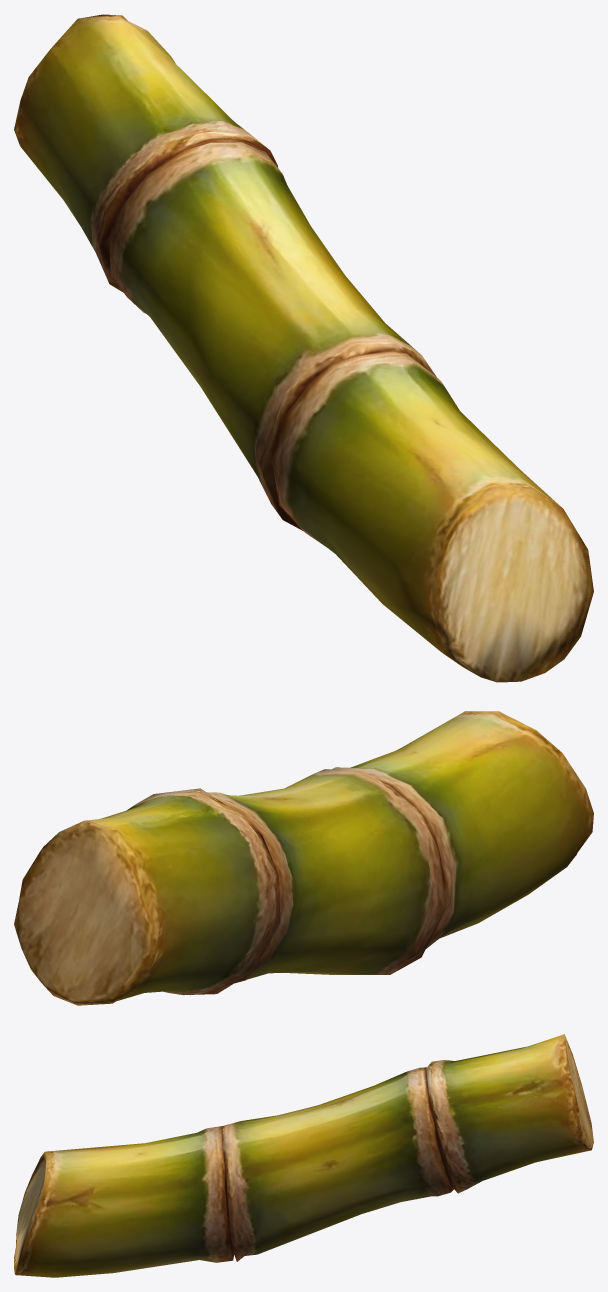
The model's file is cana-desktop.glb.
3 renders of one model, top to bottom at view 1: azimuth 30°, elevation 25°; view 2: azimuth 150°, elevation 25°; view 3: azimuth 270°, elevation 25°, orthographic. The views are drawn at different scales.
Visible parts, largest first — view 1: tripo_node_be13d86d-3cf3-488c-bdc0-e0da7d4818d5; view 2: tripo_node_be13d86d-3cf3-488c-bdc0-e0da7d4818d5; view 3: tripo_node_be13d86d-3cf3-488c-bdc0-e0da7d4818d5.
Boxes of the visible parts, box(x1,y1,x2,y2) form: tripo_node_be13d86d-3cf3-488c-bdc0-e0da7d4818d5: box(14, 14, 593, 682); tripo_node_be13d86d-3cf3-488c-bdc0-e0da7d4818d5: box(14, 711, 593, 1005); tripo_node_be13d86d-3cf3-488c-bdc0-e0da7d4818d5: box(14, 1034, 593, 1277).
Bounding box in the file's own units: 0.2314 × 0.4309 × 0.9825.
Materials: 1 (1 with a texture image).
